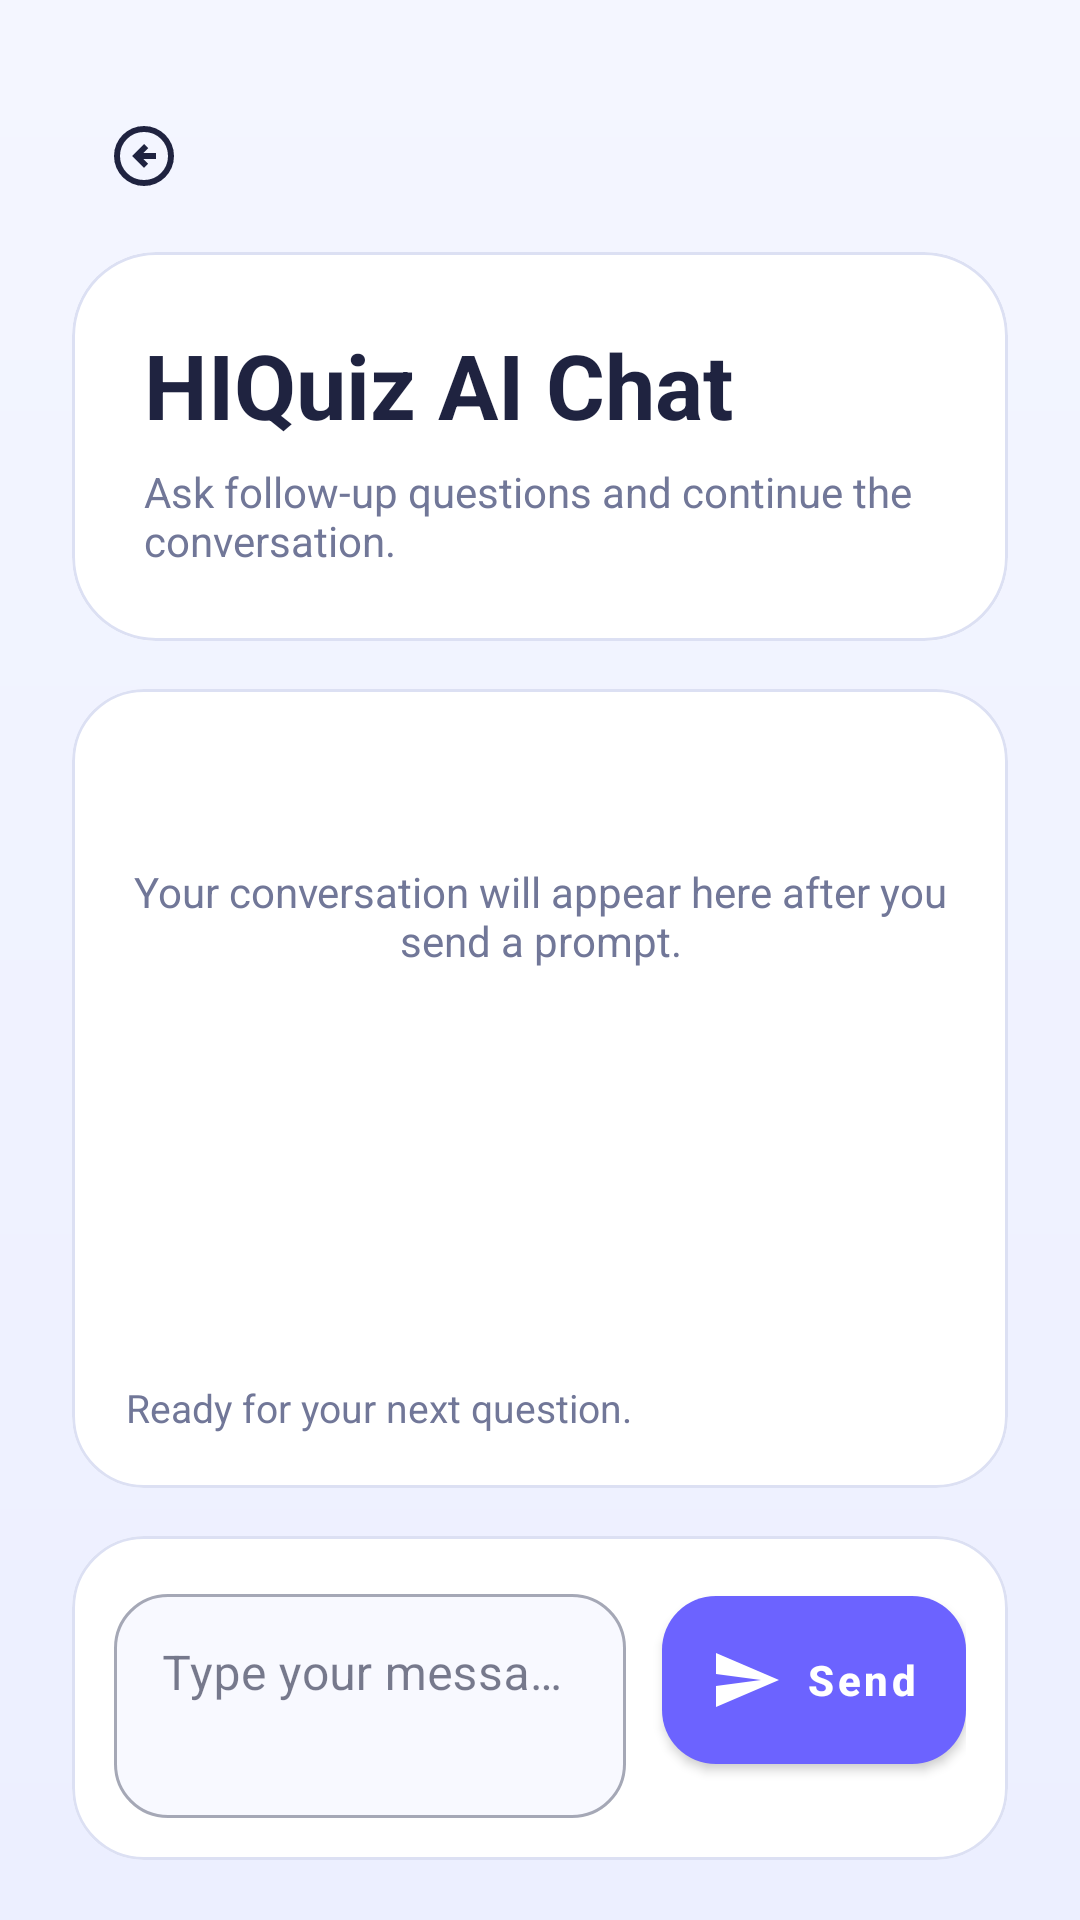

Screen size 1080×1920. Icon name, then its box in pixels as (x1=x1, y1=y1, x2=x2, y2=y2):
Back: (x1=114, y1=126, x2=174, y2=186)
